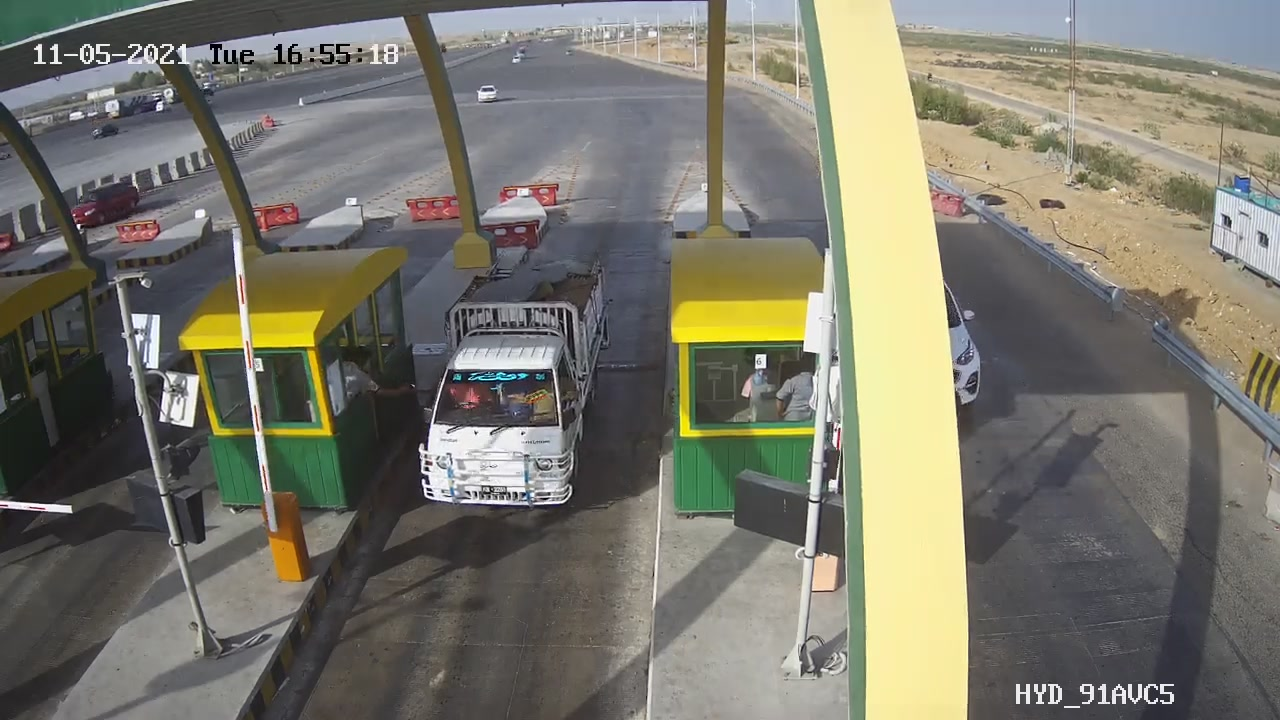F2: (403, 249, 632, 525)
